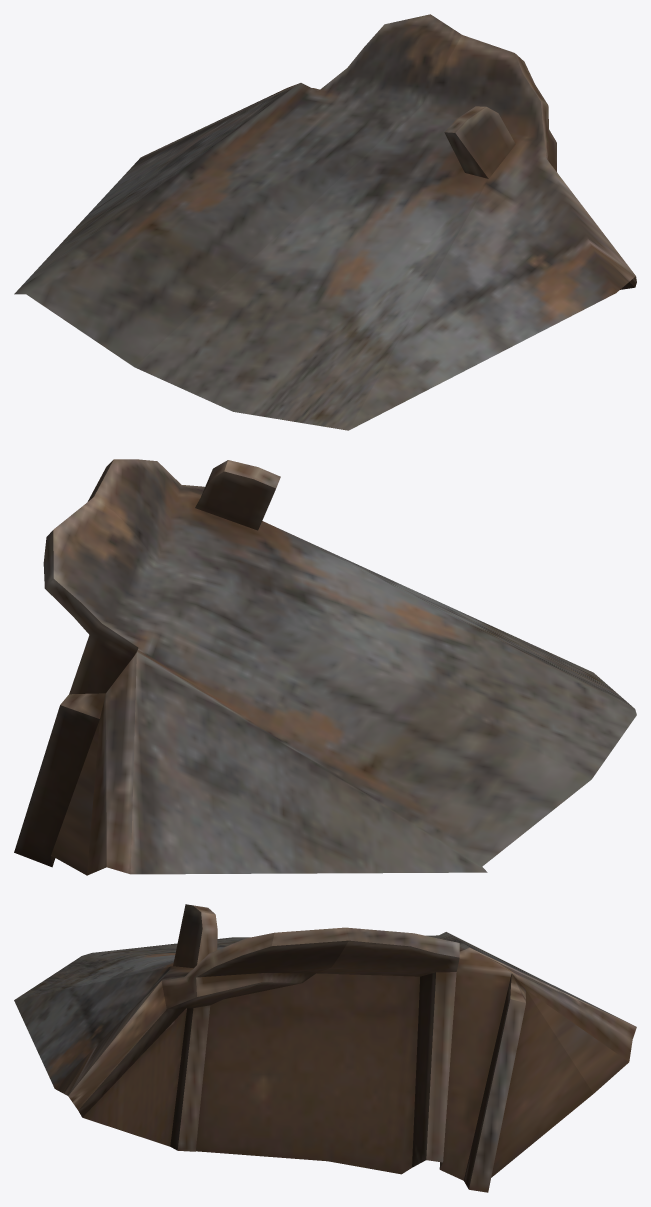
The model's file is plane_wreckage_debris_small_04.dae.
The picture shows the model from 3 angles, top to bottom: view 1: azimuth 30°, elevation 25°; view 2: azimuth 150°, elevation 25°; view 3: azimuth 270°, elevation 25°; orthographic projection. The views are drawn at different scales.
Parts seen in each view (by area): view 1: pasted__plane_wreckage_wing12; view 2: pasted__plane_wreckage_wing12; view 3: pasted__plane_wreckage_wing12.
Part boxes in pixels (bbox=[...]): pasted__plane_wreckage_wing12: bbox=[14, 14, 636, 430]; pasted__plane_wreckage_wing12: bbox=[14, 459, 636, 875]; pasted__plane_wreckage_wing12: bbox=[14, 904, 636, 1192].
Size of the model in its own units: 112 by 66.29 by 136.
